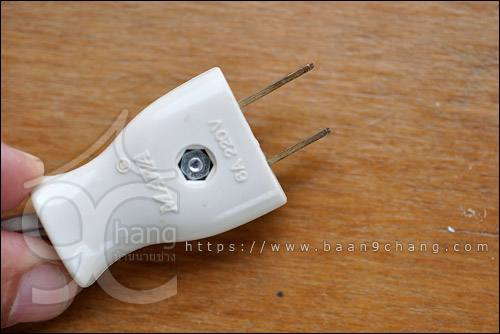Three_eye_plug: (23, 51, 341, 297)
